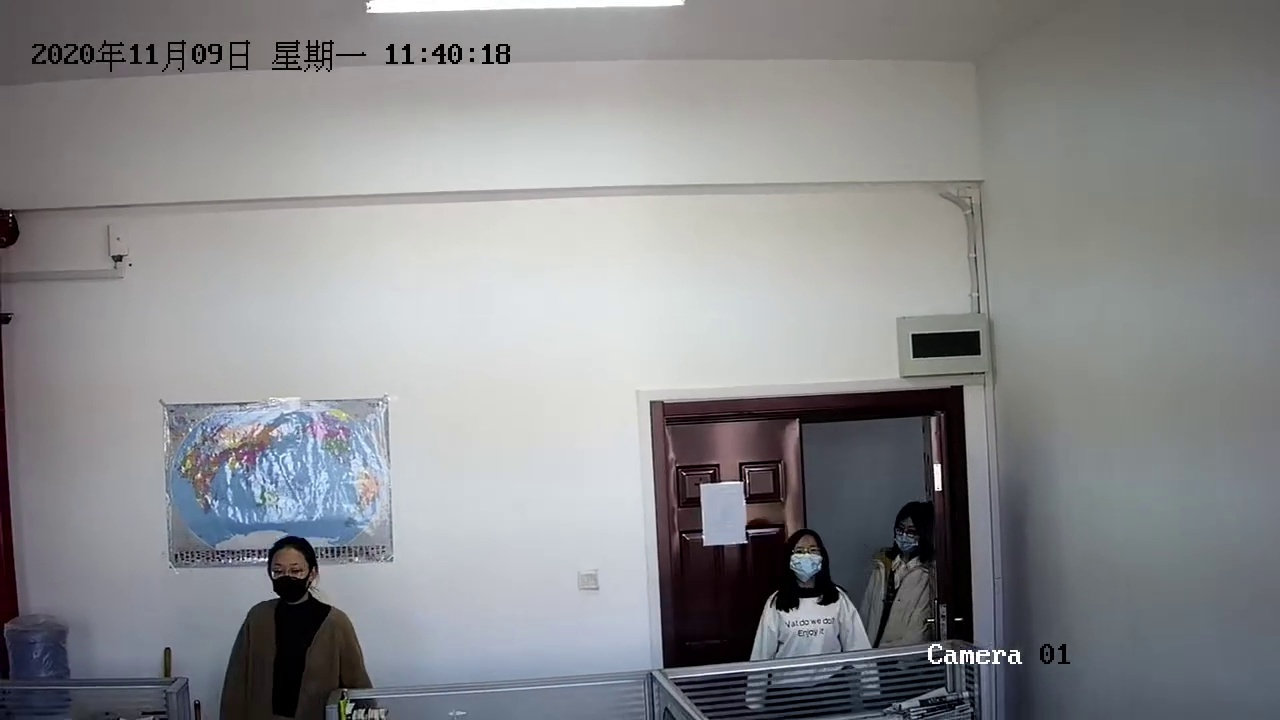mask: (264, 539, 316, 606), (783, 530, 827, 591), (890, 502, 928, 566)
